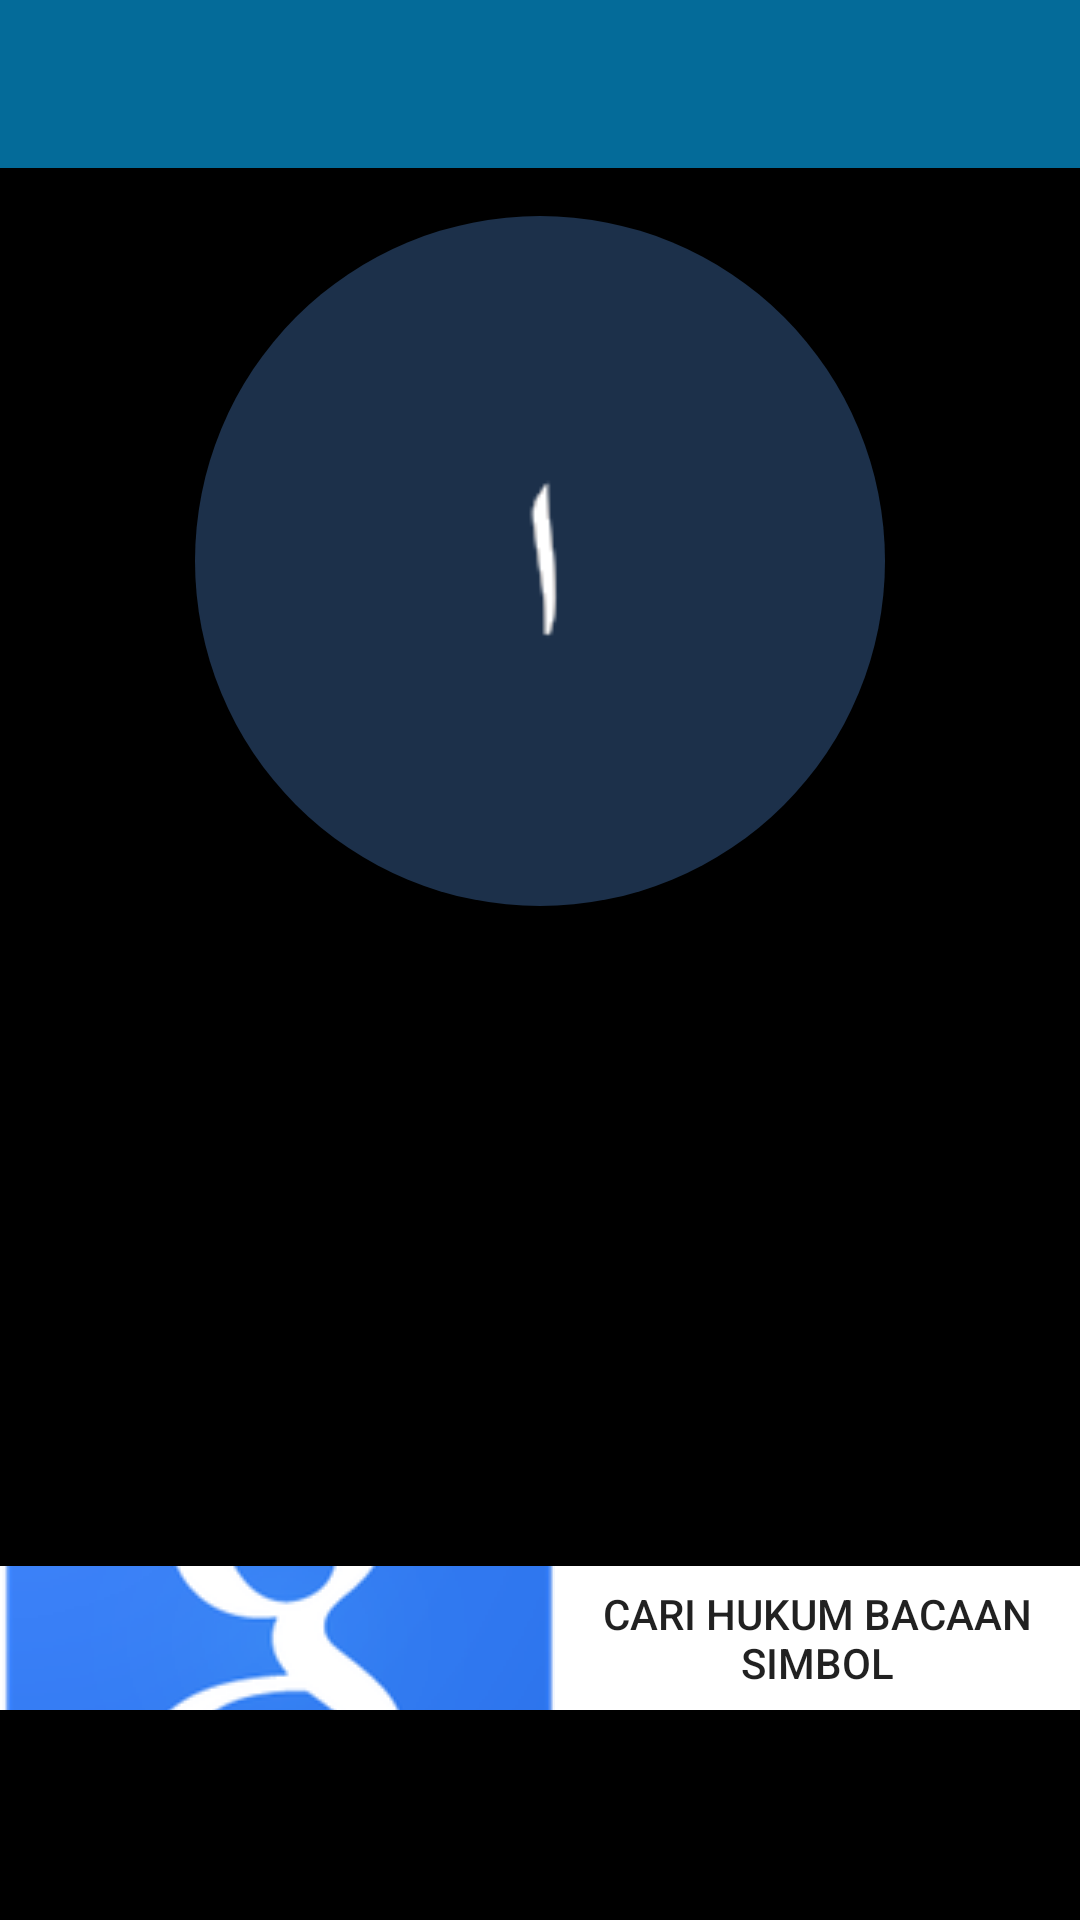

Locate icon controls on the screen. Image size 1080 x 1920, boxes as (x1, y1, x2, y2).
alif: (530, 483, 557, 636)
